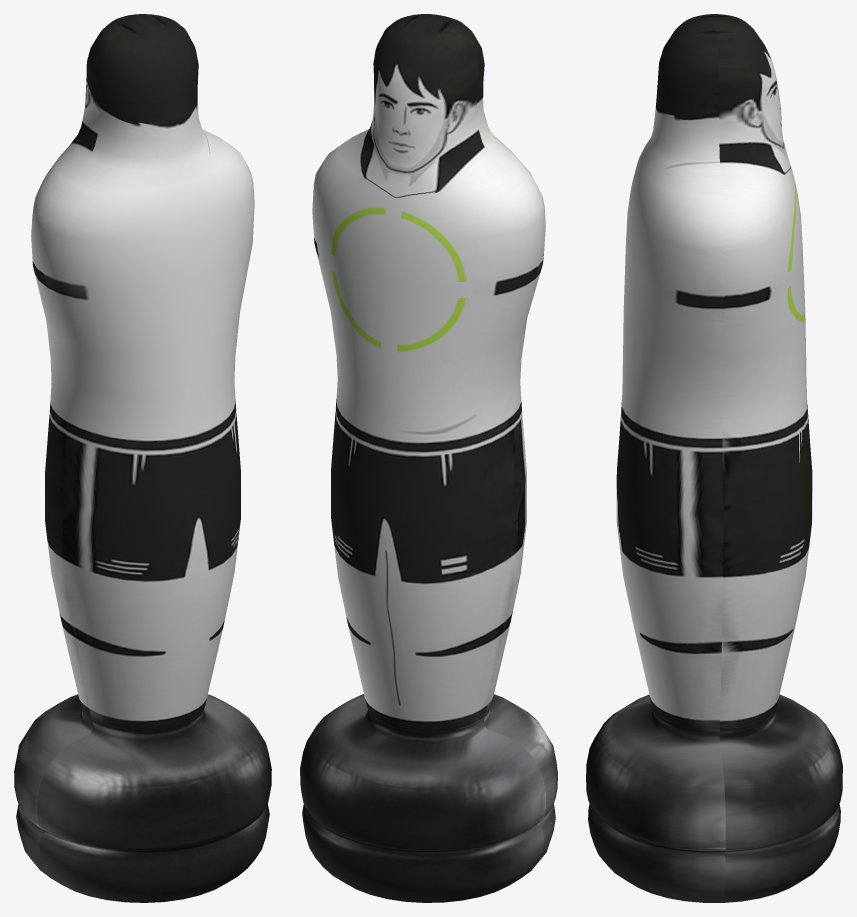
File: InflatableFootballPlayer.fbx
The picture shows the model from 3 angles, left to right: view 1: azimuth 30°, elevation 25°; view 2: azimuth 150°, elevation 25°; view 3: azimuth 270°, elevation 25°; orthographic projection.
Visible parts, largest first — view 1: InflatableFootballPlayer; view 2: InflatableFootballPlayer; view 3: InflatableFootballPlayer.
Boxes of the visible parts, x1,y1,x2,y2 form: InflatableFootballPlayer: (14, 14, 271, 902); InflatableFootballPlayer: (300, 14, 557, 902); InflatableFootballPlayer: (586, 14, 842, 902).
Size of the model in its own units: 0.5546 by 2.03 by 0.5546.
